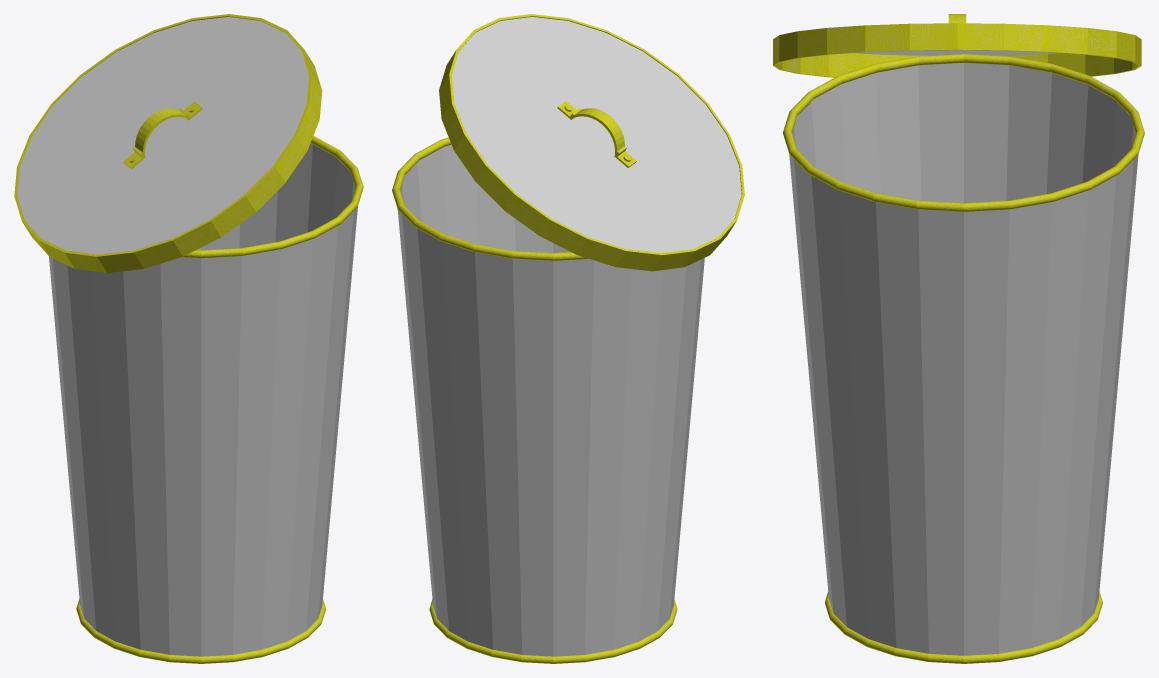
The picture shows the model from 3 angles, left to right: view 1: azimuth 30°, elevation 25°; view 2: azimuth 150°, elevation 25°; view 3: azimuth 270°, elevation 25°; orthographic projection. The views are drawn at different scales.
Visible parts, largest first — view 1: mesh2.001_mesh2-geometry, mesh1.001_mesh1-geometry, mesh3.001_mesh3-geometry, mesh4.001_mesh4-geometry; view 2: mesh2.001_mesh2-geometry, mesh1.001_mesh1-geometry, mesh3.001_mesh3-geometry, mesh4.001_mesh4-geometry; view 3: mesh2.001_mesh2-geometry, mesh1.001_mesh1-geometry, mesh3.001_mesh3-geometry, mesh4.001_mesh4-geometry.
Boxes of the visible parts, bbox=[...] form: mesh2.001_mesh2-geometry: bbox=[49, 143, 357, 656]; mesh1.001_mesh1-geometry: bbox=[14, 14, 322, 272]; mesh3.001_mesh3-geometry: bbox=[182, 136, 363, 258]; mesh4.001_mesh4-geometry: bbox=[76, 599, 325, 663]; mesh2.001_mesh2-geometry: bbox=[397, 144, 704, 656]; mesh1.001_mesh1-geometry: bbox=[439, 14, 744, 271]; mesh3.001_mesh3-geometry: bbox=[392, 137, 588, 260]; mesh4.001_mesh4-geometry: bbox=[429, 599, 677, 663]; mesh2.001_mesh2-geometry: bbox=[789, 62, 1138, 655]; mesh1.001_mesh1-geometry: bbox=[773, 14, 1141, 77]; mesh3.001_mesh3-geometry: bbox=[783, 54, 1144, 211]; mesh4.001_mesh4-geometry: bbox=[825, 592, 1102, 663].
Size of the model in its own units: 0.4471 by 0.7884 by 0.4226.
